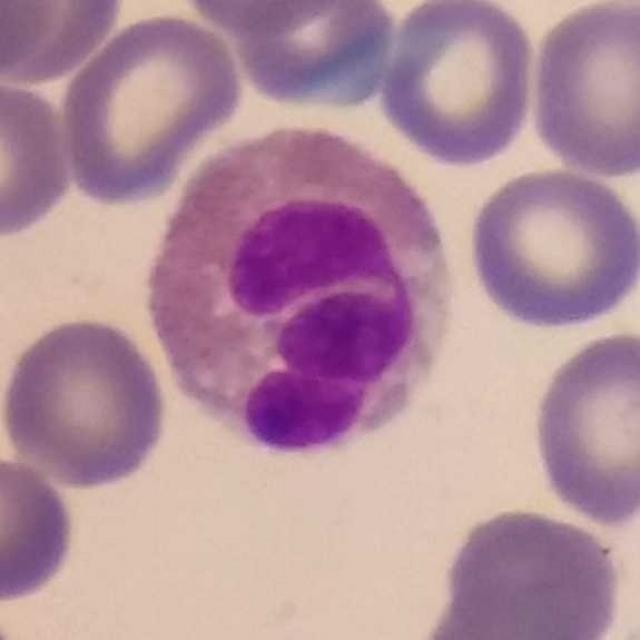Eosinophil: (155, 130, 461, 458)
RBC: (56, 6, 249, 208), (0, 313, 173, 491), (463, 165, 639, 334), (375, 0, 541, 171), (434, 502, 628, 640), (525, 325, 640, 528), (523, 0, 640, 181), (226, 0, 402, 116), (0, 71, 78, 244), (0, 446, 80, 608), (0, 0, 129, 86), (413, 596, 613, 640), (172, 0, 358, 37)
